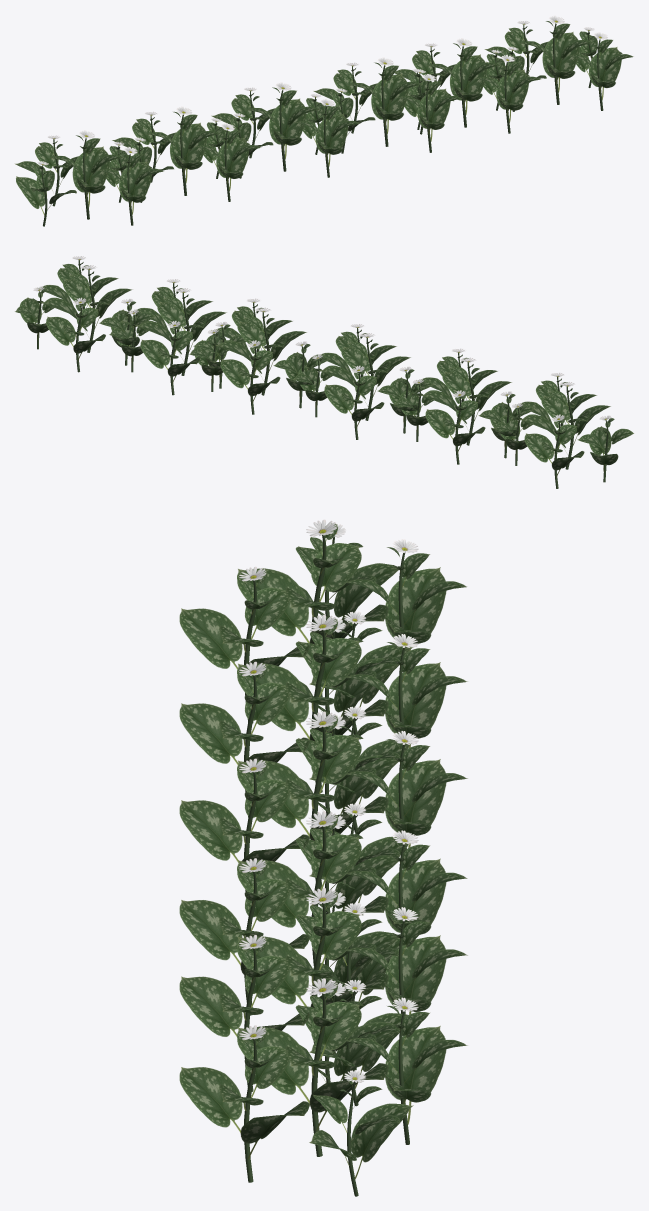
Rendered from flower_white.glb.
3 views of the same model, one above another, from view 1: azimuth 30°, elevation 25°; view 2: azimuth 150°, elevation 25°; view 3: azimuth 270°, elevation 25° (orthographic). The views are drawn at different scales.
Visible parts, largest first — view 1: Plant_Cluster_Plant_2_0.005; view 2: Plant_Cluster_Plant_2_0.005; view 3: Plant_Cluster_Plant_2_0.005.
Boxes of the visible parts, <box> form: Plant_Cluster_Plant_2_0.005: <box>15,15,633,226</box>; Plant_Cluster_Plant_2_0.005: <box>15,256,633,488</box>; Plant_Cluster_Plant_2_0.005: <box>179,519,467,1196</box>.
Size of the model in its own units: 3.73 by 0.5186 by 0.7855.
6 materials, 6 textured.
